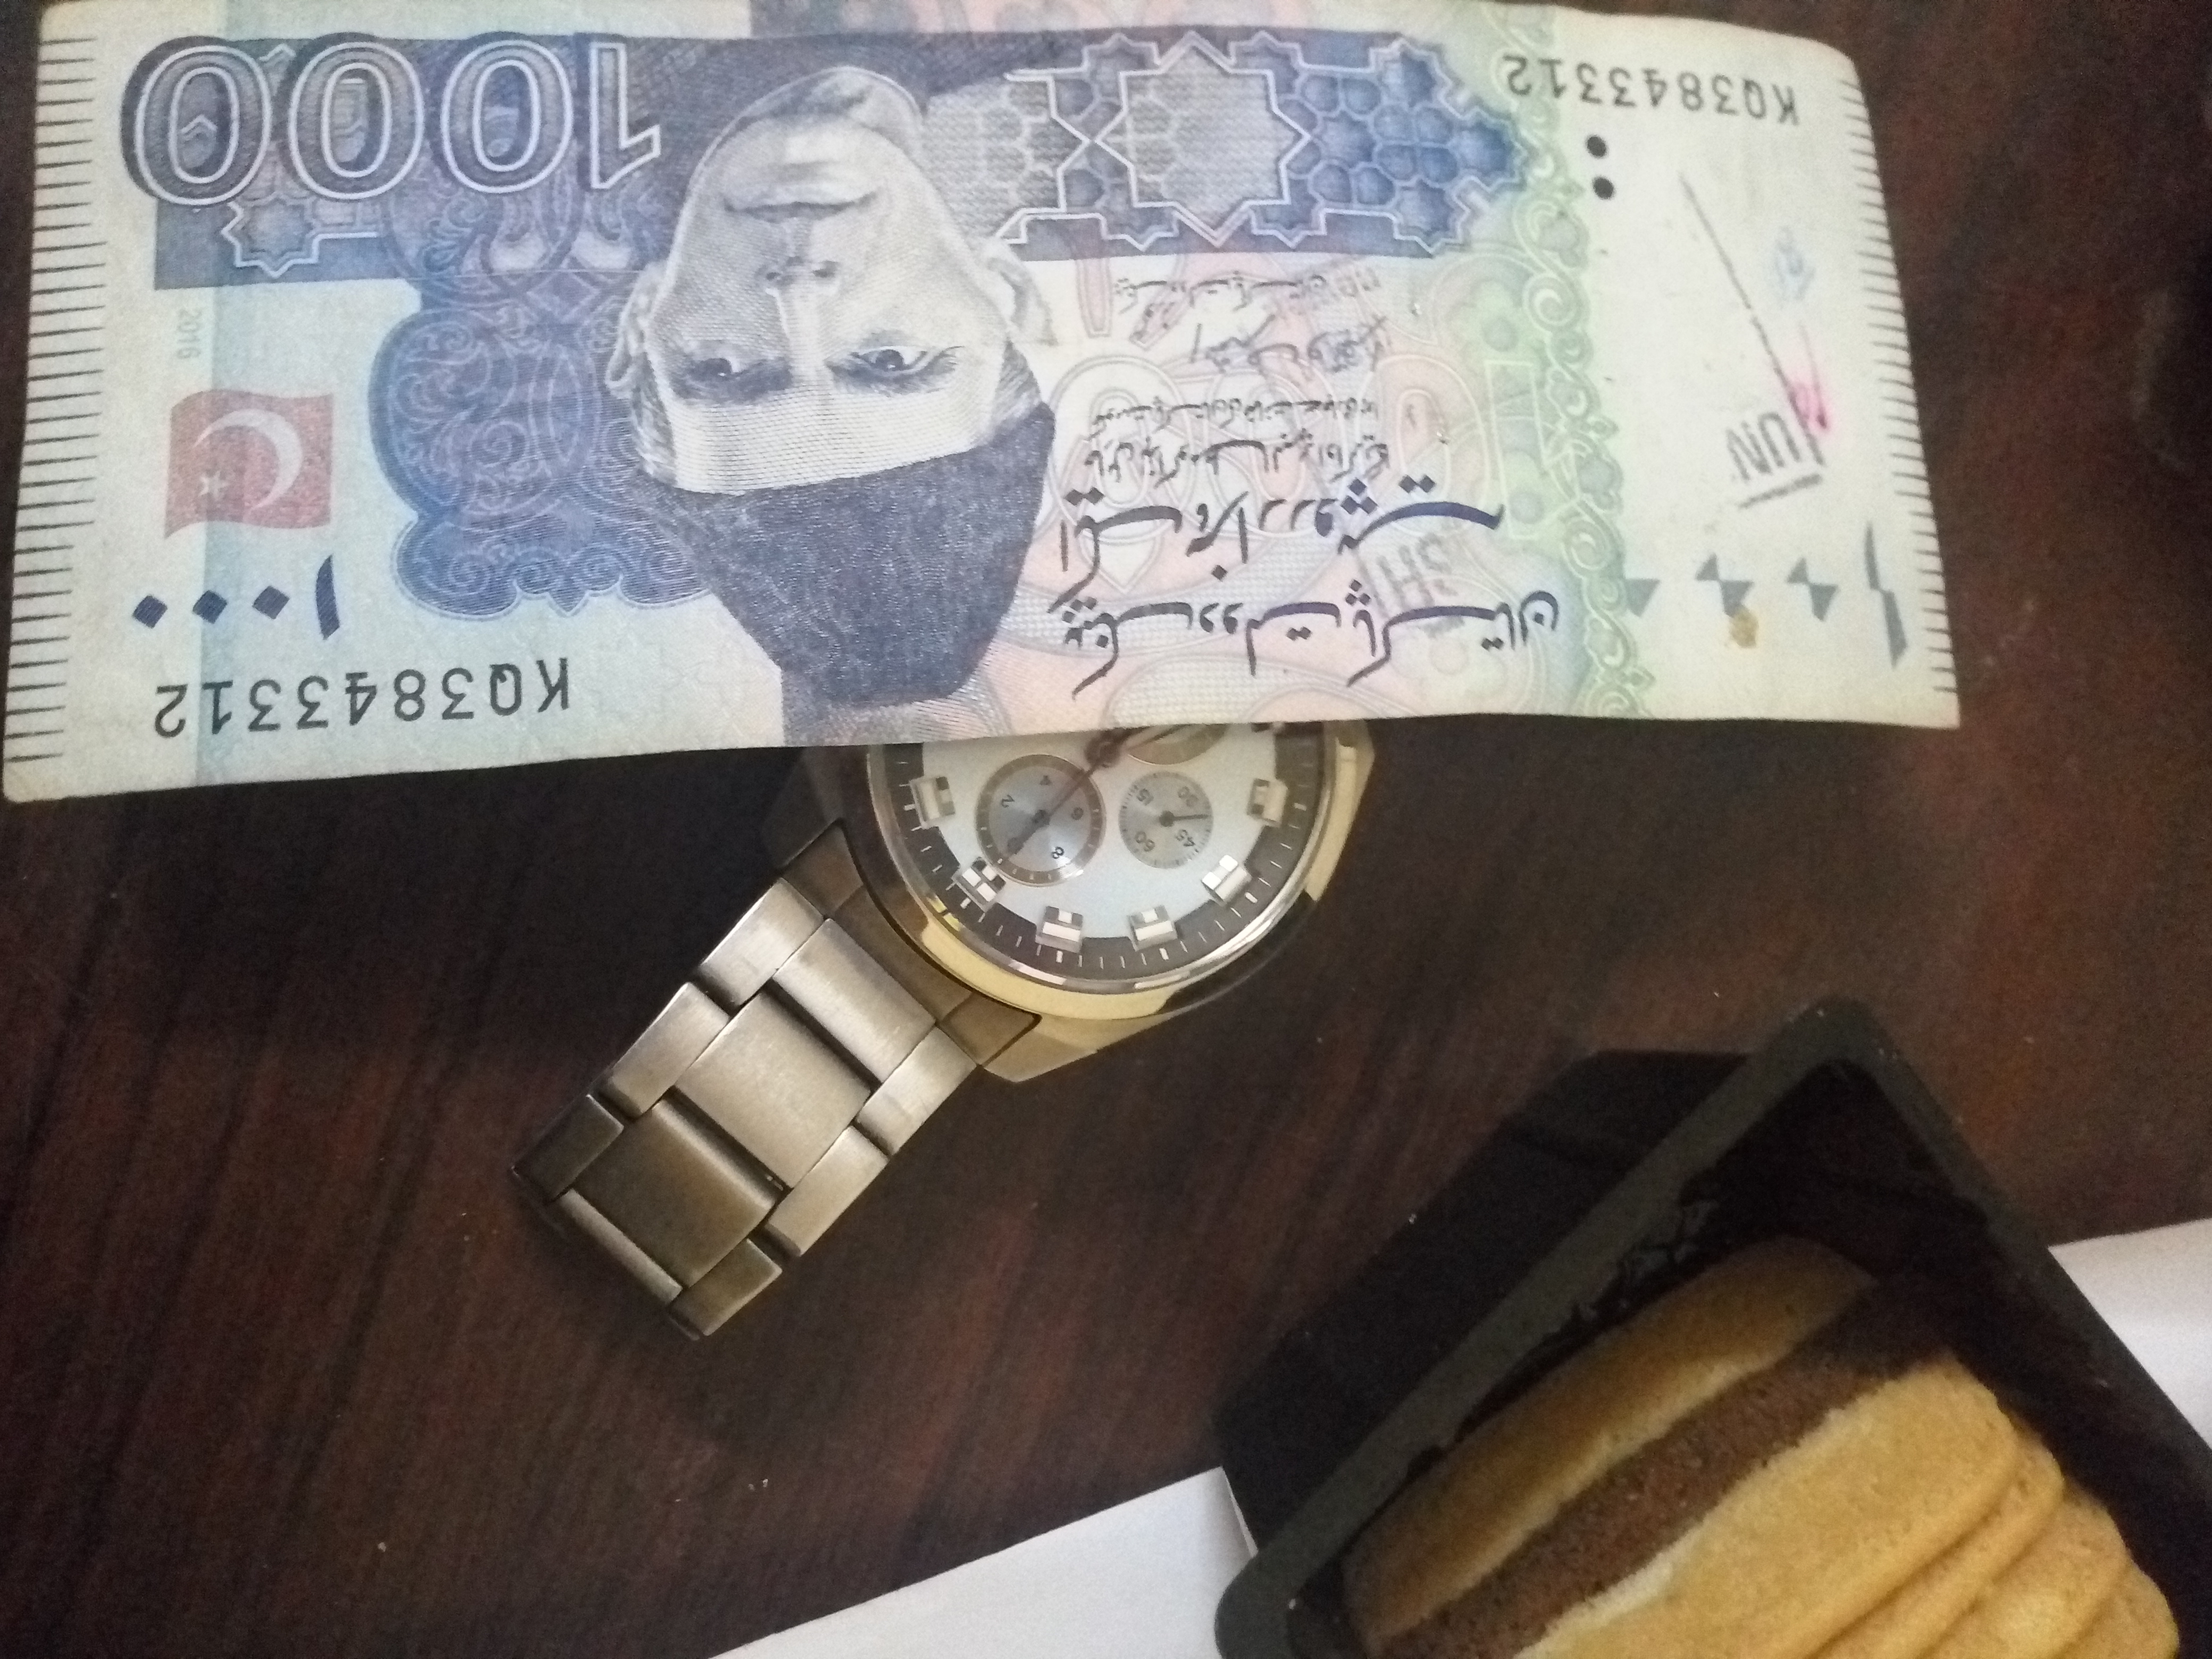1000 rupee: (30, 10, 1956, 788)
